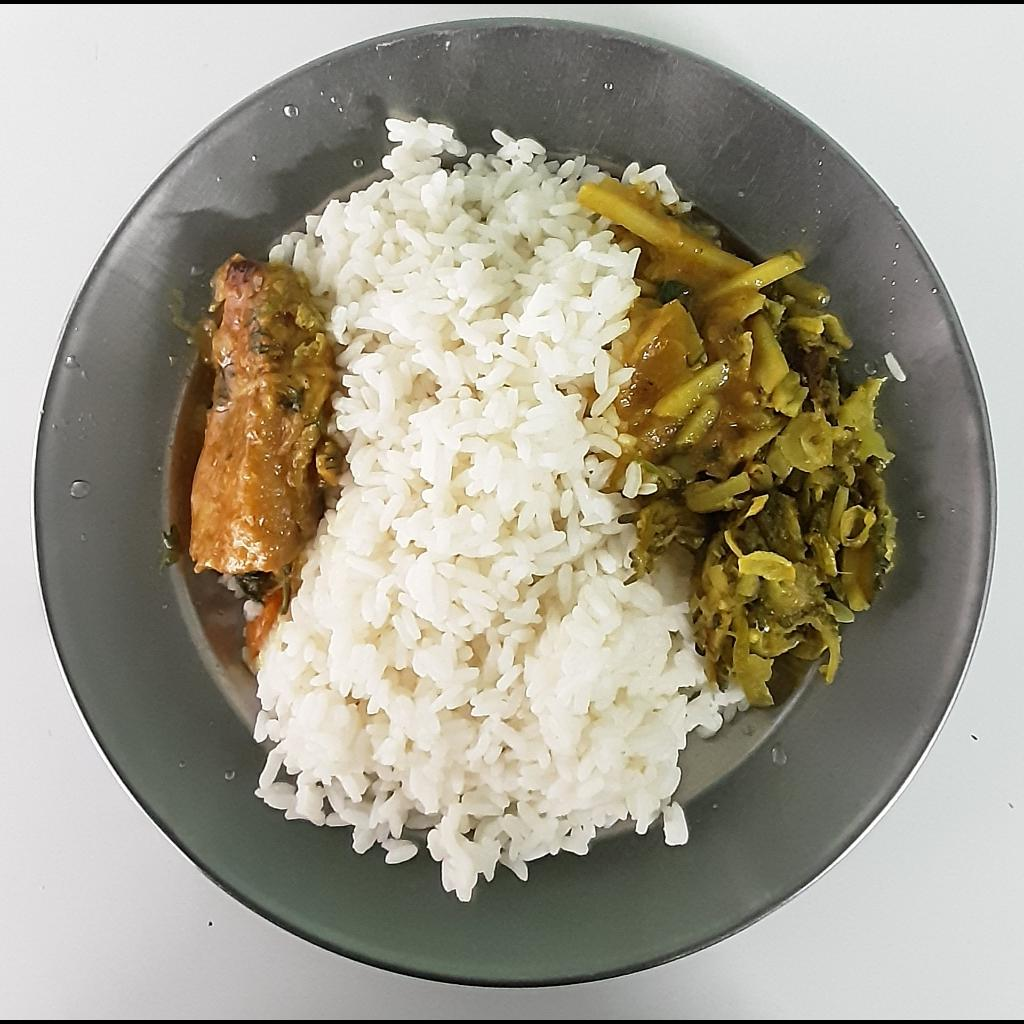fish: (185, 255, 343, 577)
korola-vaji: (629, 274, 897, 716)
potato: (577, 168, 806, 478)
rice: (219, 118, 738, 907)
